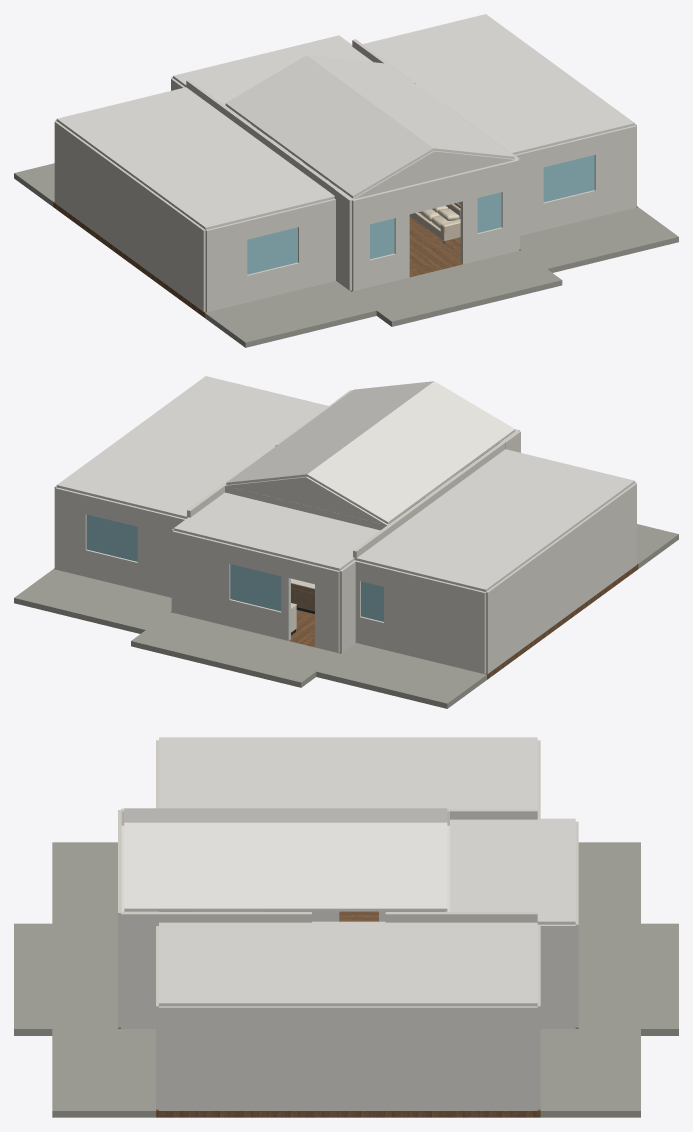
3 renders of one model, top to bottom at view 1: azimuth 30°, elevation 25°; view 2: azimuth 150°, elevation 25°; view 3: azimuth 270°, elevation 25°, orthographic. The views are drawn at different scales.
Visible parts, largest first — view 1: ceiling-left, ceiling-right, family-dining/vault-left, ext-left/end, ground/slab/4, family-dining/vault-right, ground/slab/3, ground/slab/5, ceiling-kitchen, ext-primary-front/pier-0, ext-right-front/end, ext-primary-front/end (+26 smaller); view 2: ceiling-left, ceiling-right, family-dining/vault-left, ext-left/end, ext-left-rear/pier-0, ceiling-kitchen, ground/slab/7, family-dining/vault-right, ground/slab/6, ground/slab/8, ext-kitchen-rear/end, ext-right-rear/pier-0 (+21 smaller); view 3: ext-right/end, ceiling-right, family-dining/vault-right, ceiling-left, ceiling-kitchen, ground/slab/4, ground/slab/7, ground/slab/5, ground/slab/8, ground/slab/3, ground/slab/6, family-dining/vault-left (+6 smaller).
Part boxes in pixels (left/top/right/bottom): ceiling-left: left=56, top=87, right=334, bottom=229; ceiling-right: left=363, top=14, right=634, bottom=154; family-dining/vault-left: left=225, top=55, right=433, bottom=198; ext-left/end: left=54, top=121, right=205, bottom=311; ground/slab/4: left=351, top=250, right=562, bottom=326; family-dining/vault-right: left=307, top=55, right=514, bottom=158; ground/slab/3: left=205, top=281, right=376, bottom=347; ground/slab/5: left=520, top=207, right=678, bottom=272; ceiling-kitchen: left=173, top=35, right=372, bottom=104; ext-primary-front/pier-0: left=205, top=220, right=247, bottom=312; ext-right-front/end: left=594, top=125, right=636, bottom=217; ext-primary-front/end: left=298, top=198, right=335, bottom=289; ceiling-left: left=354, top=449, right=634, bottom=591; ceiling-right: left=56, top=376, right=328, bottom=518; family-dining/vault-left: left=307, top=381, right=515, bottom=524; ext-left/end: left=486, top=483, right=636, bottom=673; ext-left-rear/pier-0: left=384, top=567, right=485, bottom=674; ceiling-kitchen: left=173, top=492, right=380, bottom=570; ground/slab/7: left=131, top=612, right=340, bottom=687; family-dining/vault-right: left=226, top=381, right=433, bottom=484; ground/slab/6: left=316, top=643, right=486, bottom=708; ground/slab/8: left=14, top=569, right=171, bottom=633; ext-kitchen-rear/end: left=172, top=530, right=230, bottom=626; ext-right-rear/pier-0: left=137, top=507, right=185, bottom=597; ext-right/end: left=159, top=1006, right=537, bottom=1110; ceiling-right: left=159, top=921, right=537, bottom=1006; family-dining/vault-right: left=124, top=822, right=447, bottom=911; ceiling-left: left=159, top=737, right=537, bottom=808; ceiling-kitchen: left=450, top=818, right=575, bottom=924; ground/slab/4: left=14, top=923, right=117, bottom=1035; ground/slab/7: left=578, top=923, right=678, bottom=1035; ground/slab/5: left=52, top=1029, right=155, bottom=1117; ground/slab/8: left=540, top=1029, right=640, bottom=1117; ground/slab/3: left=52, top=842, right=117, bottom=923; ground/slab/6: left=578, top=842, right=640, bottom=923; family-dining/vault-left: left=124, top=808, right=447, bottom=822.
Size of the model in its own units: 15.32 by 4.26 by 16.01.
69 materials, 2 textured.
